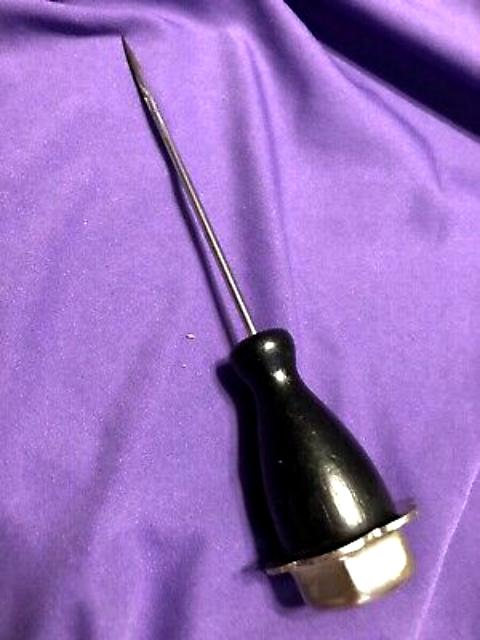ice pick: (119, 31, 419, 612)
